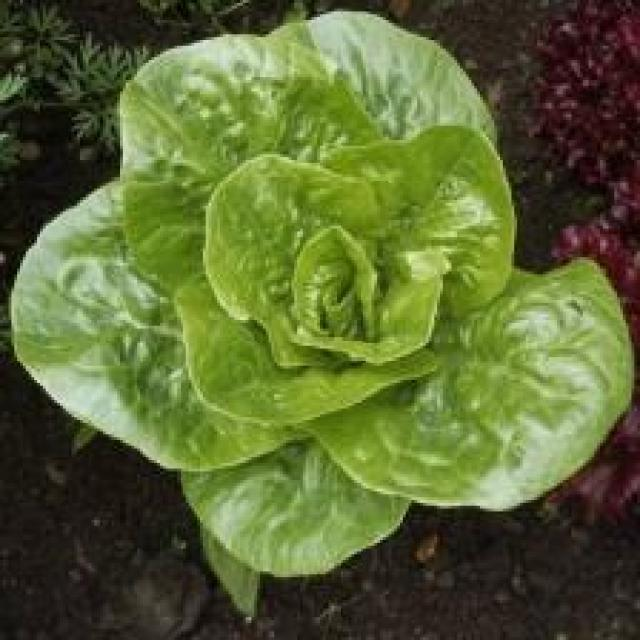Lettuce: (14, 12, 630, 570)
